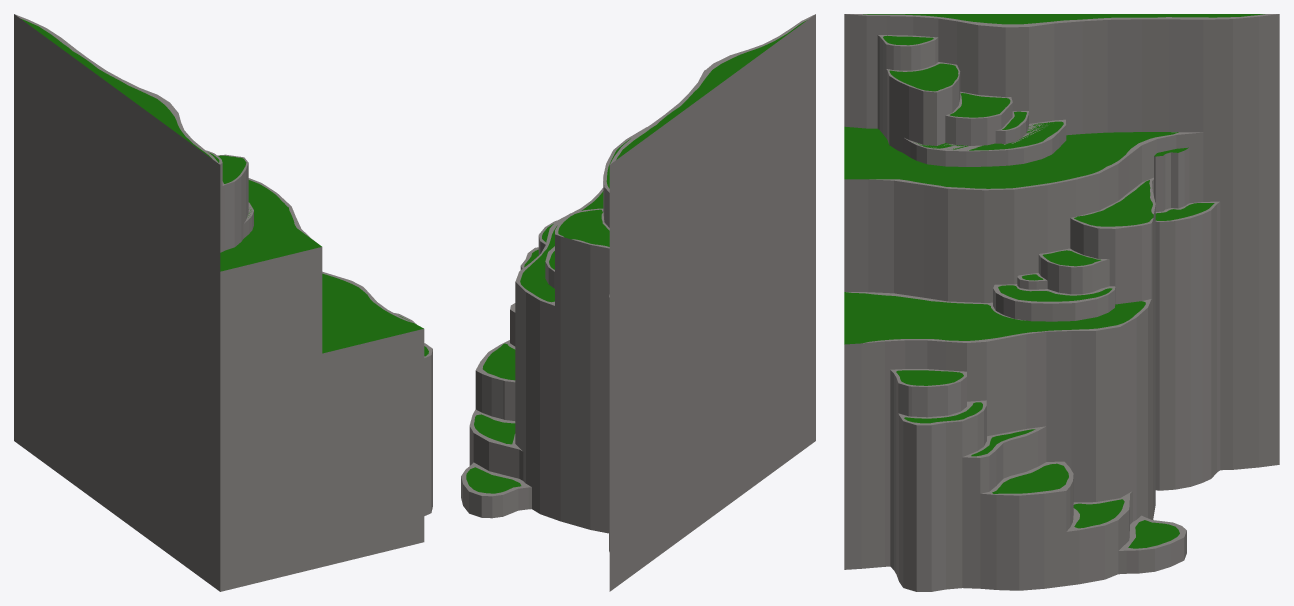
File: StairToMountainCorner.fbx
3 views of the same model, side by side, from view 1: azimuth 30°, elevation 25°; view 2: azimuth 150°, elevation 25°; view 3: azimuth 270°, elevation 25° (orthographic). The views are drawn at different scales.
Parts seen in each view (by area): view 1: Plane.017; view 2: Plane.017; view 3: Plane.017.
Part boxes in pixels (x1,y1,x2,y2): Plane.017: (14,14,432,591); Plane.017: (461,14,815,591); Plane.017: (844,14,1279,591).
Size of the model in its own units: 60.49 by 100 by 87.53.
